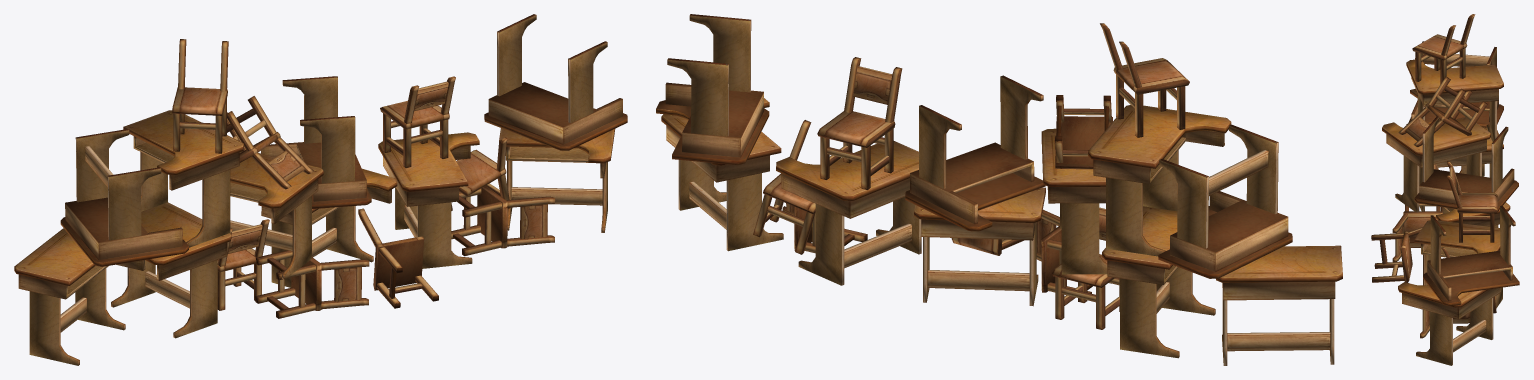
File: a_SWAdesk01.glb
The picture shows the model from 3 angles, left to right: view 1: azimuth 30°, elevation 25°; view 2: azimuth 150°, elevation 25°; view 3: azimuth 270°, elevation 25°; orthographic projection. The views are drawn at different scales.
Visible parts, largest first — view 1: a_SWAdesk01; view 2: a_SWAdesk01; view 3: a_SWAdesk01.
Part boxes in pixels (bbox=[...]): a_SWAdesk01: bbox=[14, 14, 627, 365]; a_SWAdesk01: bbox=[656, 14, 1342, 365]; a_SWAdesk01: bbox=[1371, 14, 1519, 365].
Bounding box in the file's own units: 6.21 × 2.52 × 1.71.
Materials: 1 (1 with a texture image).
